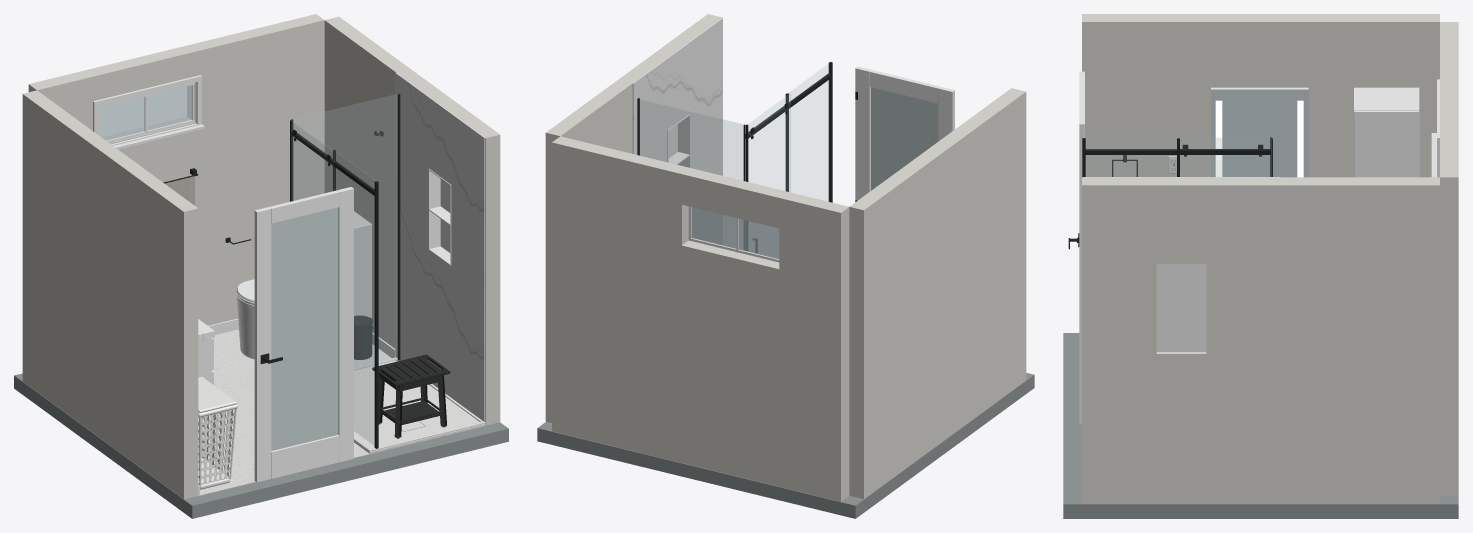
The model's file is bathroom.glb.
The picture shows the model from 3 angles, left to right: view 1: azimuth 30°, elevation 25°; view 2: azimuth 150°, elevation 25°; view 3: azimuth 270°, elevation 25°; orthographic projection. The views are drawn at different scales.
Parts seen in each view (by area): view 1: Left wall, Back wall · below window, Shaker door frosted pane, Shower glass · short return, Right wall · toilet end, Sapphire right panel · below niche, Back wall · above window, Floor slab, Sapphire right panel · above niche, Shower glass · fixed long panel, White speckled epoxy floor, Back wall · right return (+24 smaller); view 2: Back wall · below window, Left wall, Back wall · above window, Floor slab, Sapphire right panel · above niche, Shower glass · short return, Right wall · toilet end, Back wall · right return, Shaker door frosted pane, Shower glass · fixed long panel, Shower glass · sliding door concept, Back wall · left return (+8 smaller); view 3: Right wall · toilet end, Left wall, Right wall · below niche, Right wall · above niche, Floor slab, BIBO reflective surface, Right wall · front return, Right wall · back return, Back wall · below window, Homevacious vertical niche back, Linen cabinet door · right hinged, Back wall · above window (+7 smaller).
Boxes of the visible parts, <box> form: Left wall: <box>22,90,198,499</box>; Back wall · below window: <box>102,91,324,325</box>; Shaker door frosted pane: <box>271,207,338,450</box>; Shower glass · short return: <box>293,94,397,370</box>; Right wall · toilet end: <box>324,16,410,348</box>; Sapphire right panel · below niche: <box>395,225,485,421</box>; Back wall · above window: <box>28,14,324,112</box>; Floor slab: <box>14,373,508,518</box>; Sapphire right panel · above niche: <box>395,72,485,208</box>; Shower glass · fixed long panel: <box>335,151,375,445</box>; White speckled epoxy floor: <box>198,329,485,495</box>; Back wall · right return: <box>187,50,324,122</box>; Back wall · below window: <box>552,214,849,501</box>; Left wall: <box>849,88,1026,498</box>; Back wall · above window: <box>552,136,849,243</box>; Floor slab: <box>537,373,1034,518</box>; Sapphire right panel · above niche: <box>632,18,722,154</box>; Shower glass · short return: <box>639,99,743,180</box>; Right wall · toilet end: <box>545,80,632,422</box>; Back wall · right return: <box>552,173,688,245</box>; Shaker door frosted pane: <box>871,87,937,190</box>; Shower glass · fixed long panel: <box>789,63,828,201</box>; Shower glass · sliding door concept: <box>748,93,790,191</box>; Back wall · left return: <box>779,228,849,284</box>; Right wall · toilet end: <box>1280,177,1439,503</box>; Left wall: <box>1082,14,1439,177</box>; Right wall · below niche: <box>1082,352,1280,503</box>; Right wall · above niche: <box>1082,177,1280,263</box>; Floor slab: <box>1063,333,1458,518</box>; BIBO reflective surface: <box>1211,89,1308,177</box>; Right wall · front return: <box>1082,264,1156,353</box>; Right wall · back return: <box>1206,264,1280,353</box>; Back wall · below window: <box>1440,256,1458,495</box>; Homevacious vertical niche back: <box>1156,264,1206,351</box>; Linen cabinet door · right hinged: <box>1354,110,1418,177</box>; Back wall · above window: <box>1440,22,1458,211</box>.
Bounding box in the file's own units: 2.49 × 2.26 × 2.43.
18 materials, 3 textured.
